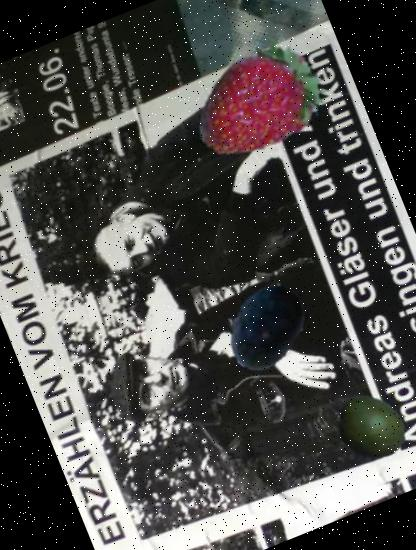Blueberry: (207, 270, 322, 385)
Mango: (321, 378, 416, 476)
Strawberry: (176, 18, 350, 192)
